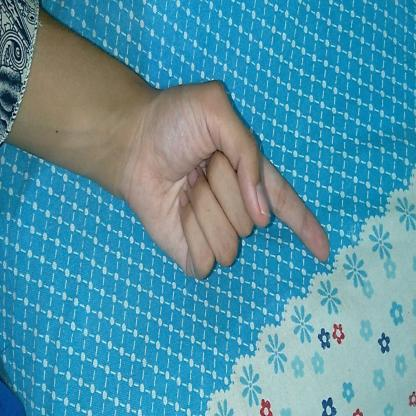hand: (44, 6, 342, 312)
